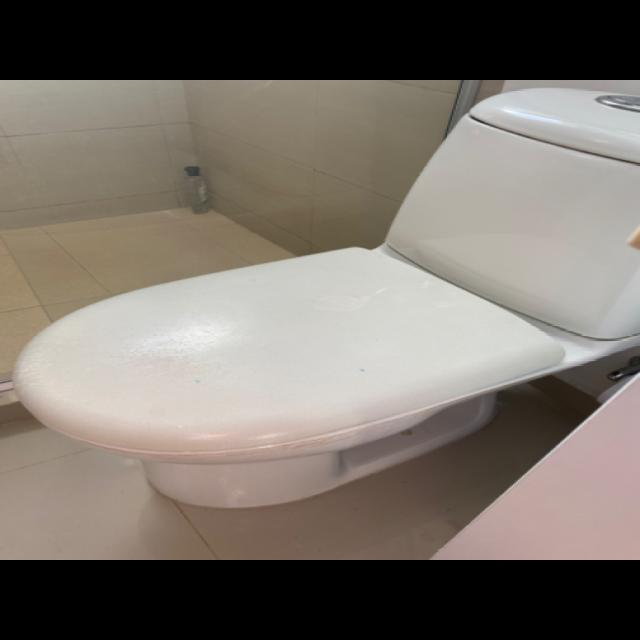toilet: (11, 85, 639, 509)
